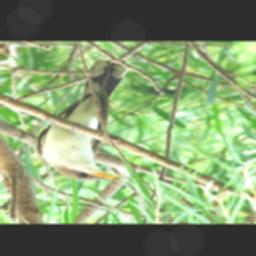Cuckoo: (36, 59, 129, 181)
